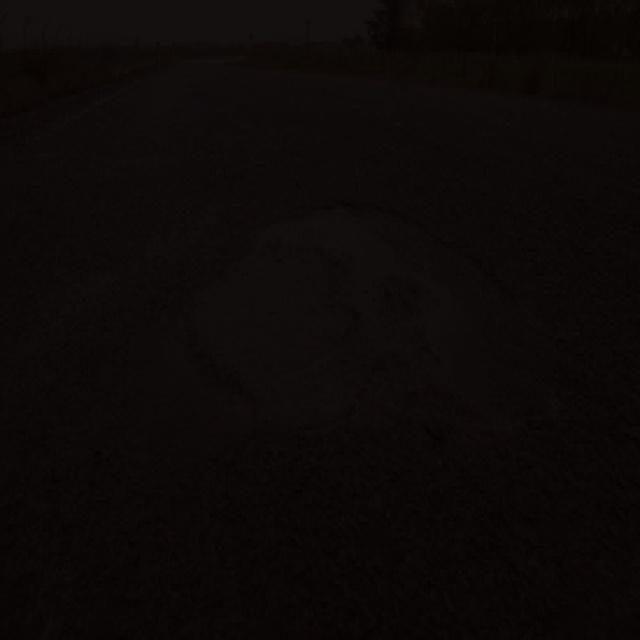Pothole: (127, 188, 581, 467)
